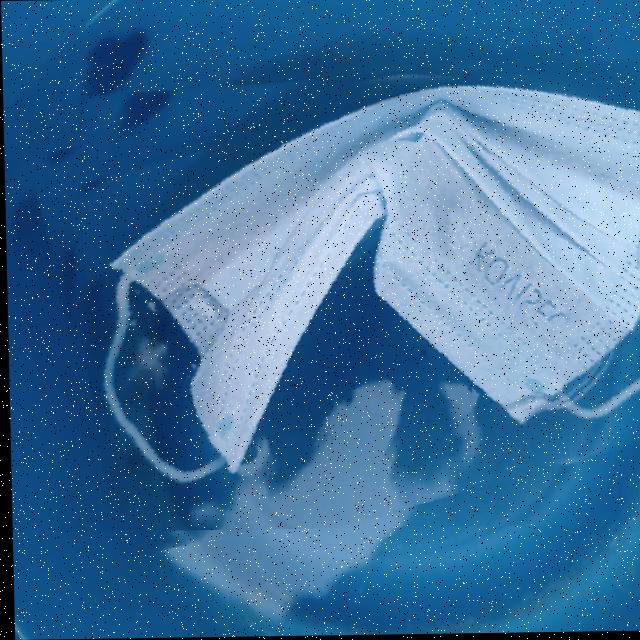mask: (44, 58, 640, 531)
